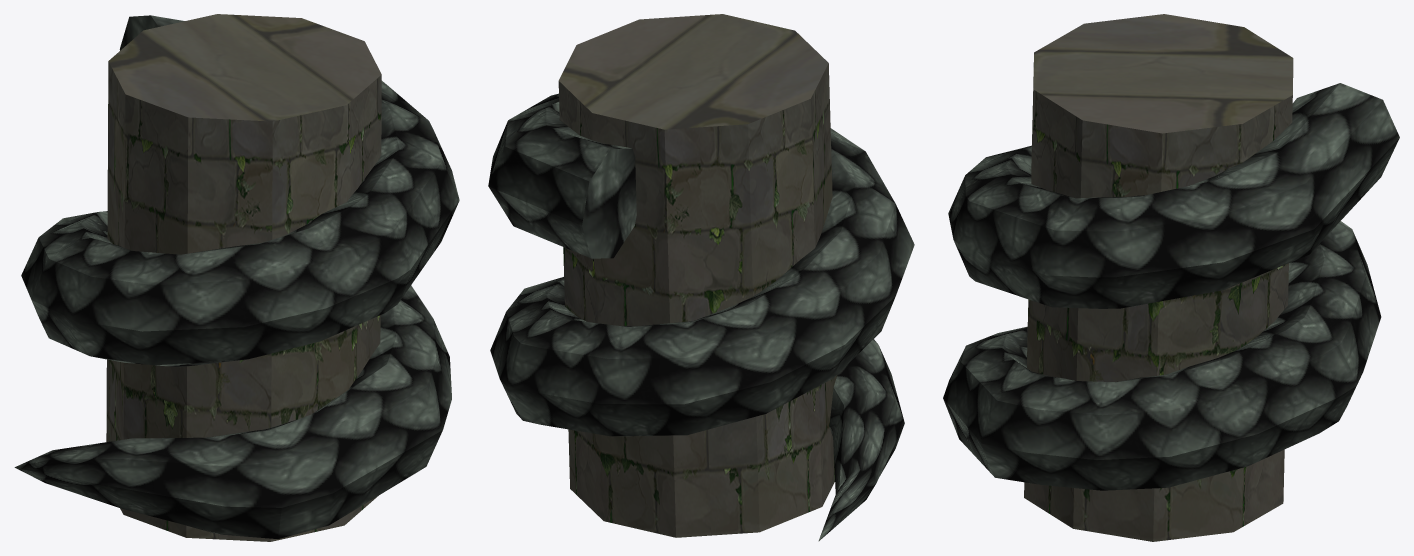
The model's file is SM_Pillar_Bottom.fbx.
The picture shows the model from 3 angles, left to right: view 1: azimuth 30°, elevation 25°; view 2: azimuth 150°, elevation 25°; view 3: azimuth 270°, elevation 25°; orthographic projection.
Parts seen in each view (by area): view 1: polySurface40; view 2: polySurface40; view 3: polySurface40.
Boxes of the visible parts, x1=… form: polySurface40: x1=14, y1=14, x2=459, y2=541; polySurface40: x1=488, y1=14, x2=914, y2=541; polySurface40: x1=943, y1=14, x2=1399, y2=541.
Bounding box in the file's own units: 0.7859 × 0.8458 × 0.8375.
